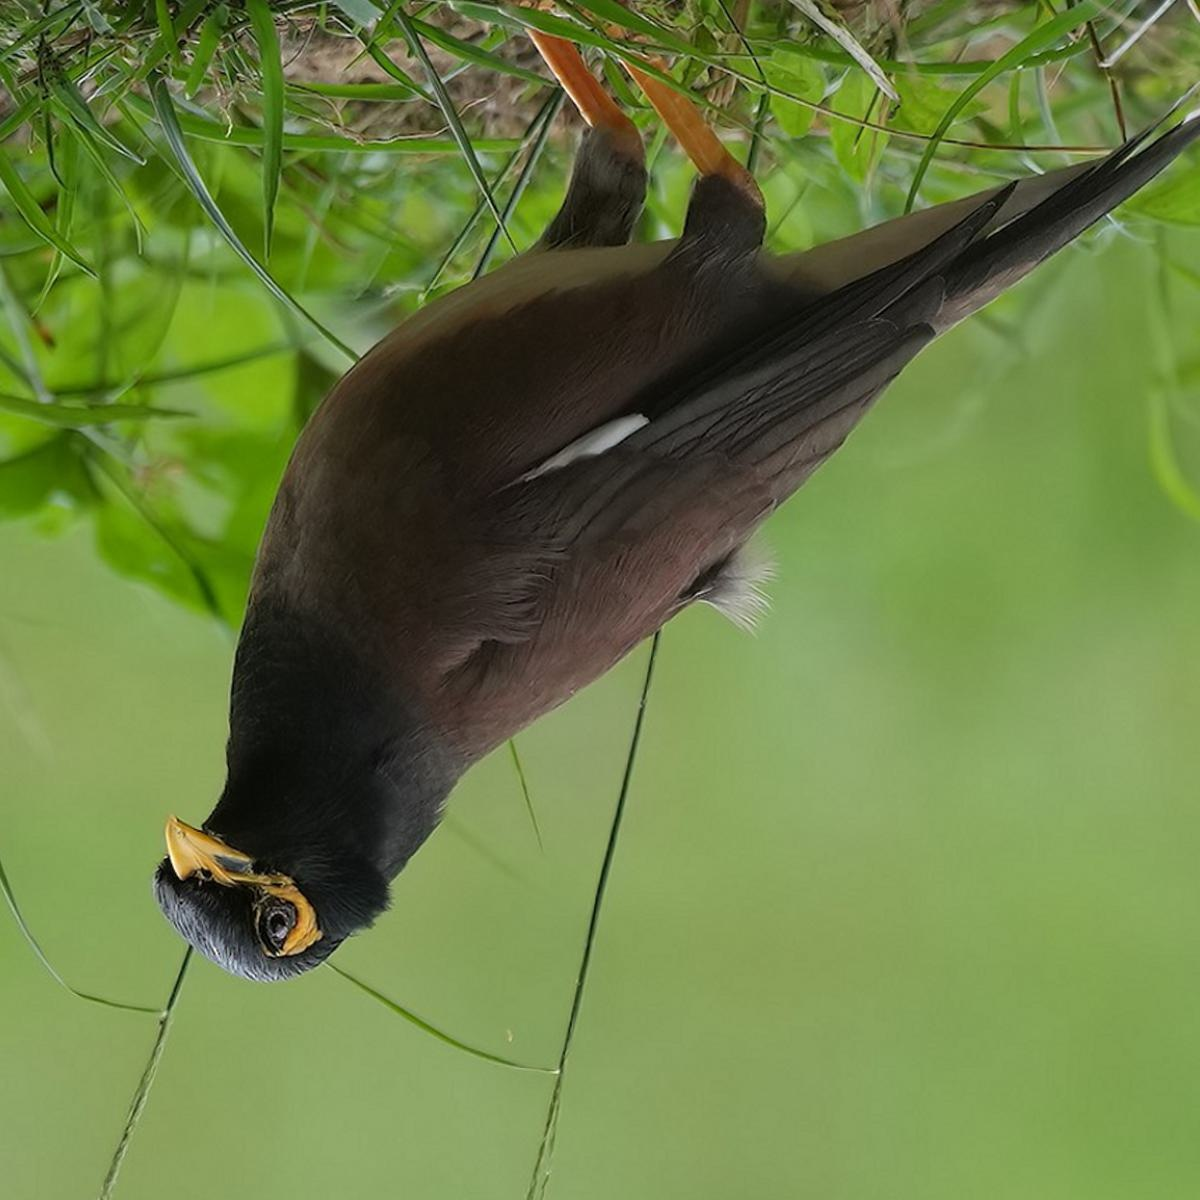myna: (122, 144, 1052, 993)
